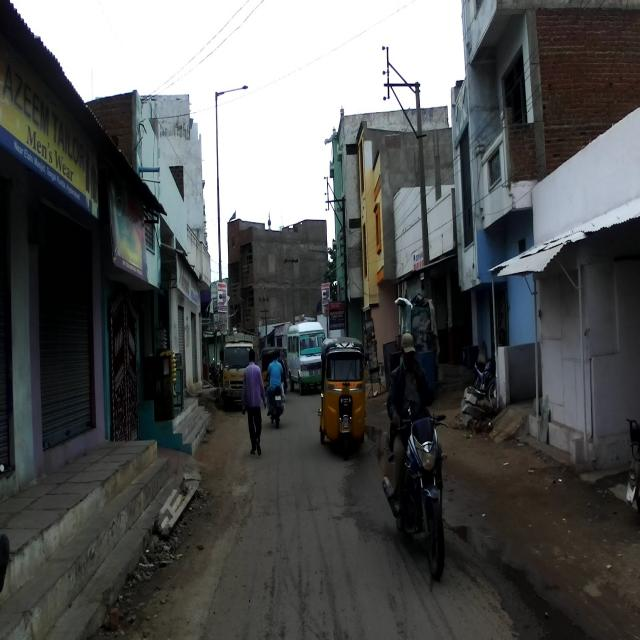autorickshaw: (316, 336, 368, 461)
motorcycle_Honda: (382, 411, 449, 580)
truck: (220, 330, 258, 412)
